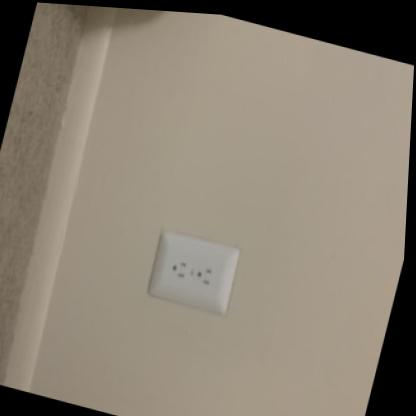OUTLET: (145, 226, 243, 319)
